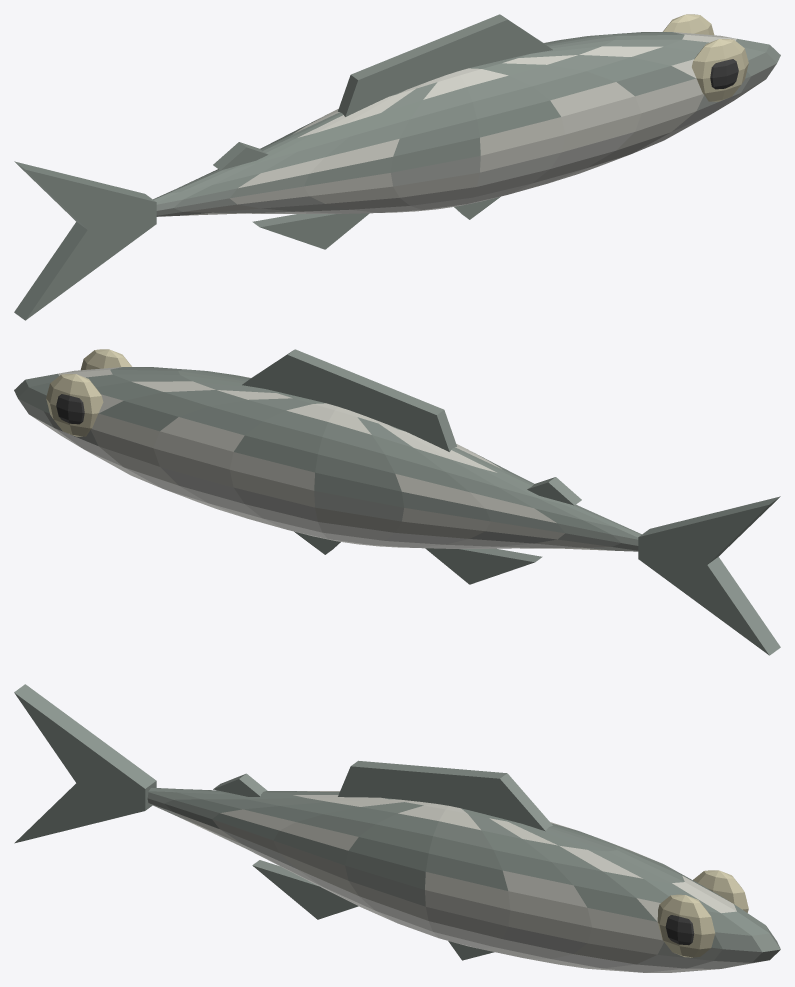
File: LakeTrout.glb
The picture shows the model from 3 angles, top to bottom: view 1: azimuth 30°, elevation 25°; view 2: azimuth 150°, elevation 25°; view 3: azimuth 330°, elevation 25°; orthographic projection.
Visible parts, largest first — view 1: LakeTrout; view 2: LakeTrout; view 3: LakeTrout.
Part boxes in pixels (box(x1,y1,x2,y2)): LakeTrout: box(14, 14, 780, 320); LakeTrout: box(14, 349, 780, 655); LakeTrout: box(14, 684, 780, 972).
Bounding box in the file's own units: 6.28 × 1.51 × 0.8.
